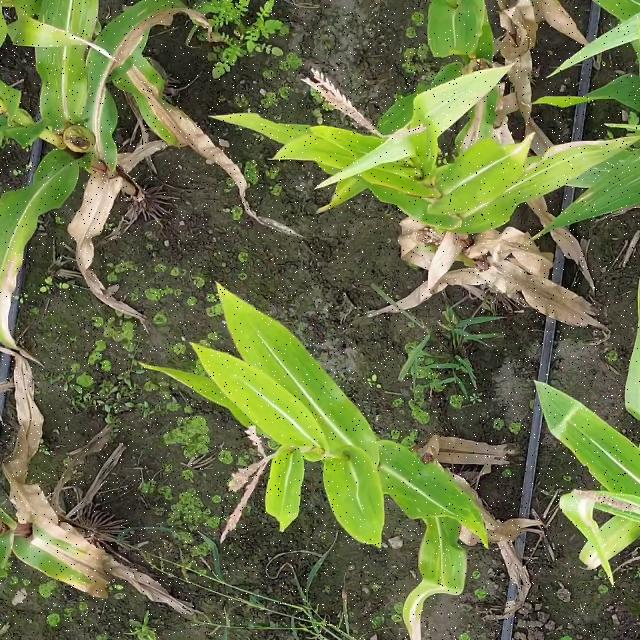gray-leaf-spot: (38, 49, 68, 92), (604, 151, 639, 187)
northern-leaf-blight: (122, 73, 180, 132), (28, 536, 96, 580), (106, 11, 140, 73), (1, 252, 18, 344), (401, 584, 428, 634)
